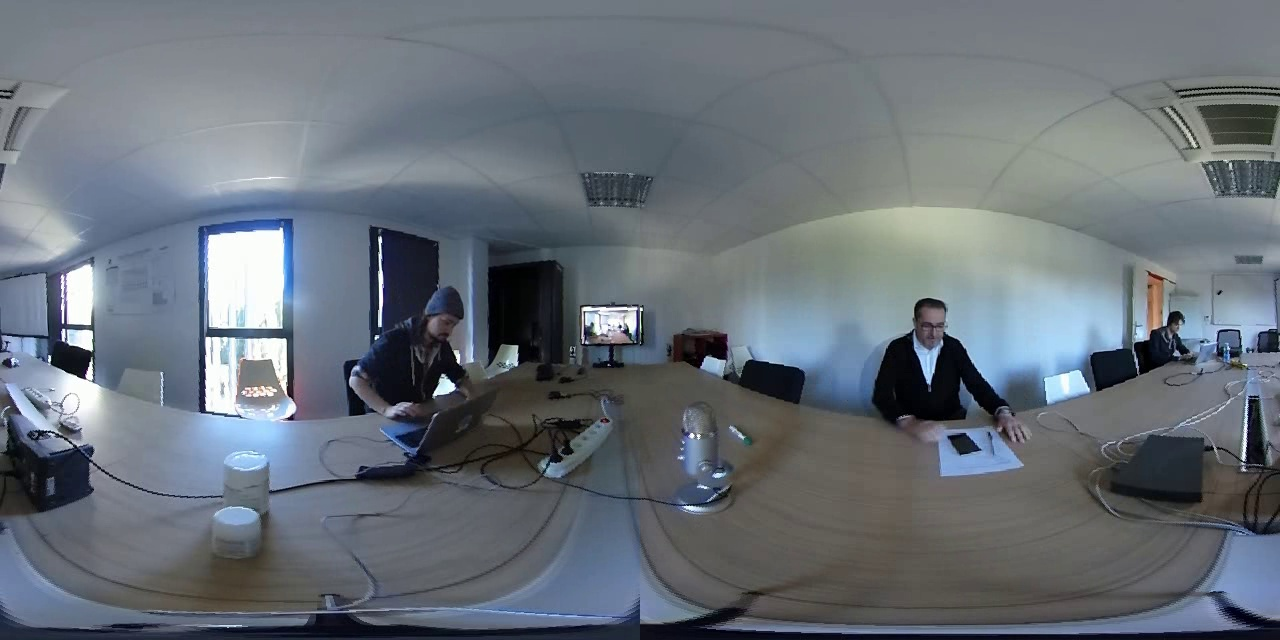person: (352, 279, 486, 401), (879, 292, 988, 424), (1147, 304, 1197, 370)
